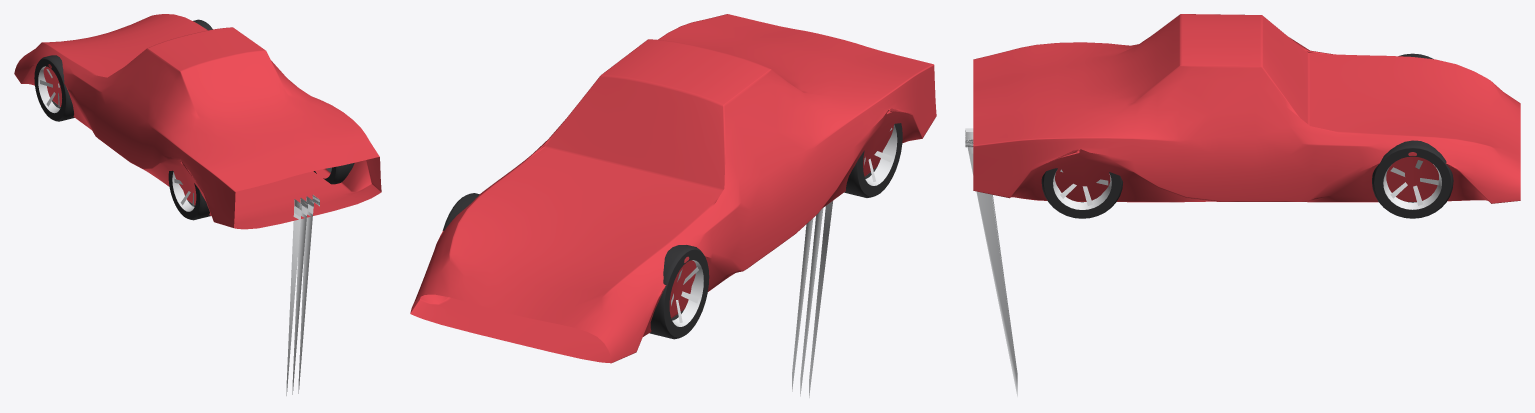
The model's file is vehicle.glb.
3 views of the same model, side by side, from view 1: azimuth 30°, elevation 25°; view 2: azimuth 150°, elevation 25°; view 3: azimuth 270°, elevation 25° (orthographic). The views are drawn at different scales.
Parts seen in each view (by area): view 1: BODY_CorvetteC7_MainHull, AERO_CorvetteC7_QuadExhaust, WHEEL_FR_Tire, WHEEL_RR_Tire, WHEEL_FR_Rim, WHEEL_RR_Rim, WHEEL_RL_Tire; view 2: BODY_CorvetteC7_MainHull, AERO_CorvetteC7_QuadExhaust, WHEEL_FR_Tire, WHEEL_RR_Tire, WHEEL_FR_Rim, WHEEL_RR_Rim; view 3: BODY_CorvetteC7_MainHull, WHEEL_FL_Tire, AERO_CorvetteC7_QuadExhaust, WHEEL_RL_Tire, WHEEL_FL_Rim, WHEEL_RL_Rim.
Part boxes in pixels (box(x1,y1,x2,y2)): BODY_CorvetteC7_MainHull: box(14, 14, 381, 229); AERO_CorvetteC7_QuadExhaust: box(286, 195, 319, 395); WHEEL_FR_Tire: box(34, 55, 74, 121); WHEEL_RR_Tire: box(168, 170, 210, 220); WHEEL_FR_Rim: box(38, 66, 59, 113); WHEEL_RR_Rim: box(172, 172, 194, 211); WHEEL_RL_Tire: box(313, 163, 354, 184); BODY_CorvetteC7_MainHull: box(410, 14, 936, 363); AERO_CorvetteC7_QuadExhaust: box(792, 201, 832, 397); WHEEL_FR_Tire: box(649, 245, 709, 339); WHEEL_RR_Tire: box(844, 123, 902, 197); WHEEL_FR_Rim: box(671, 260, 703, 326); WHEEL_RR_Rim: box(864, 124, 897, 185); BODY_CorvetteC7_MainHull: box(973, 14, 1520, 203); WHEEL_FL_Tire: box(1372, 140, 1453, 218); AERO_CorvetteC7_QuadExhaust: box(965, 128, 1017, 396); WHEEL_RL_Tire: box(1041, 168, 1122, 218); WHEEL_FL_Rim: box(1383, 160, 1441, 209); WHEEL_RL_Rim: box(1053, 169, 1111, 209).
Bounding box in the file's own units: 1.96 × 3.24 × 4.56.
